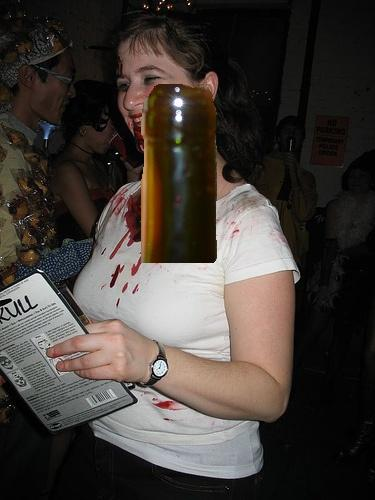tampered: (141, 85, 217, 263)
